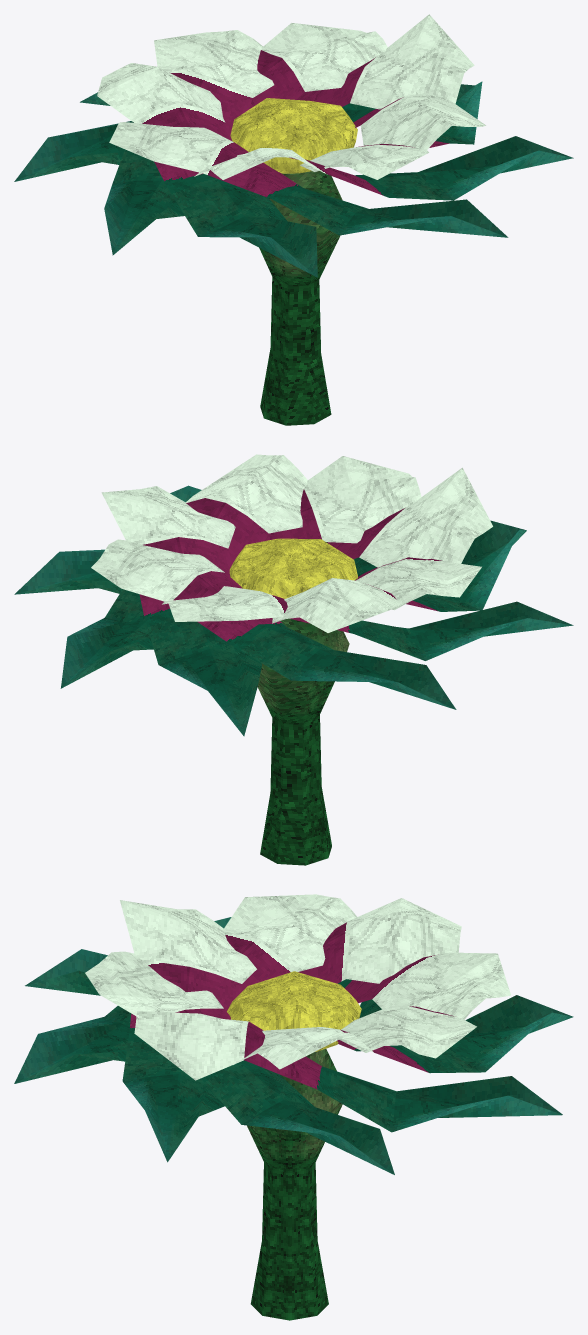
The model's file is flwr_05.glb.
The picture shows the model from 3 angles, top to bottom: view 1: azimuth 30°, elevation 25°; view 2: azimuth 150°, elevation 25°; view 3: azimuth 270°, elevation 25°; orthographic projection. The views are drawn at different scales.
Visible parts, largest first — view 1: FLWR_05; view 2: FLWR_05; view 3: FLWR_05.
Part boxes in pixels (left/top/right/bottom): FLWR_05: left=14, top=14, right=573, bottom=425; FLWR_05: left=14, top=454, right=573, bottom=865; FLWR_05: left=14, top=894, right=573, bottom=1320.
Size of the model in its own units: 2.78 by 1.98 by 2.78.
Materials: 1 (1 with a texture image).
